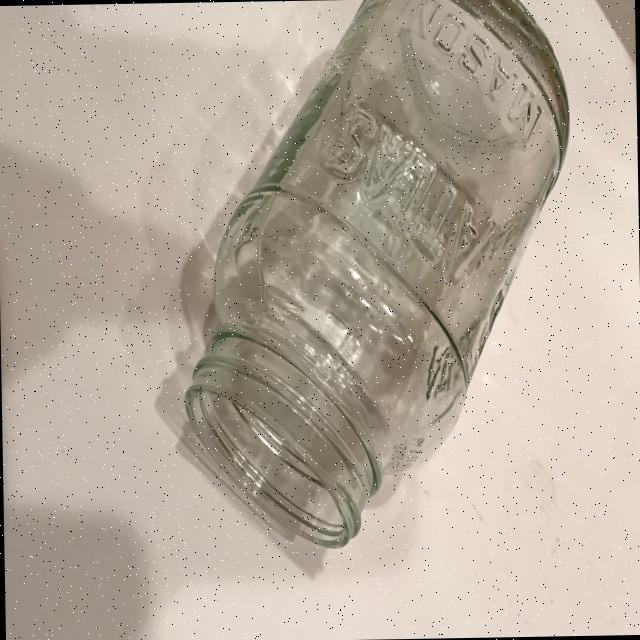glass: (174, 0, 577, 551)
